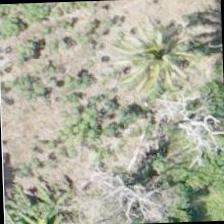Kelapa_Sawit: (110, 12, 204, 105)
